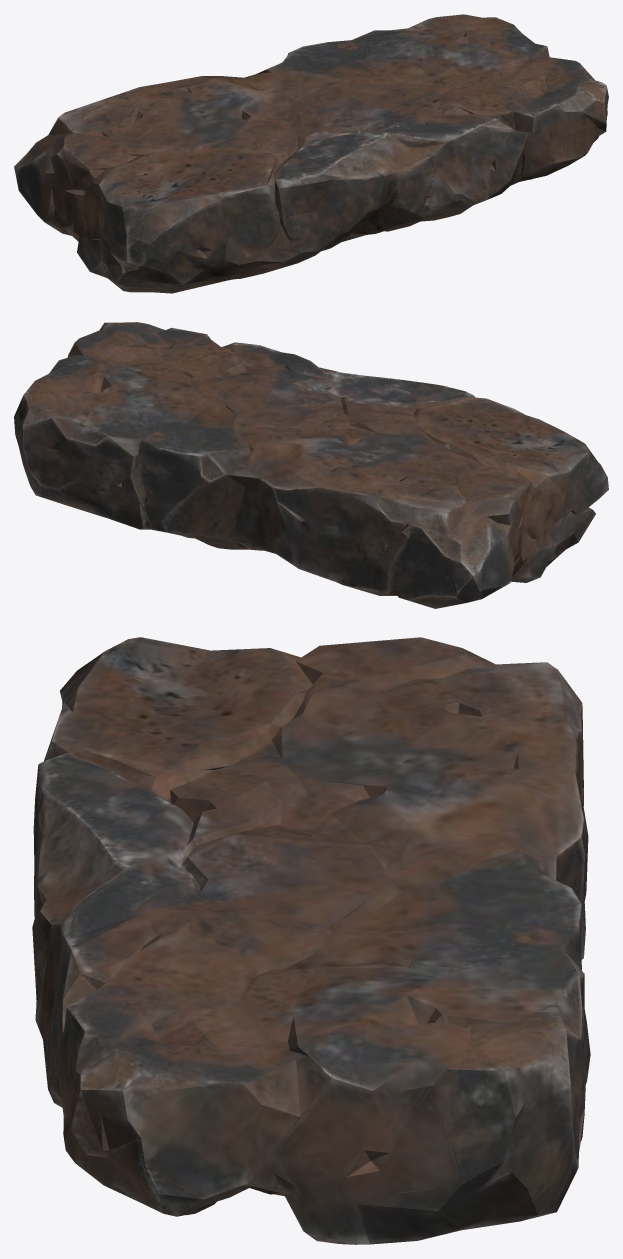
File: et_rock3.glb
3 views of the same model, one above another, from view 1: azimuth 30°, elevation 25°; view 2: azimuth 150°, elevation 25°; view 3: azimuth 270°, elevation 25° (orthographic). The views are drawn at different scales.
Size of the model in its own units: 1.9 by 0.523 by 0.9254.
Materials: 1 (1 with a texture image).
